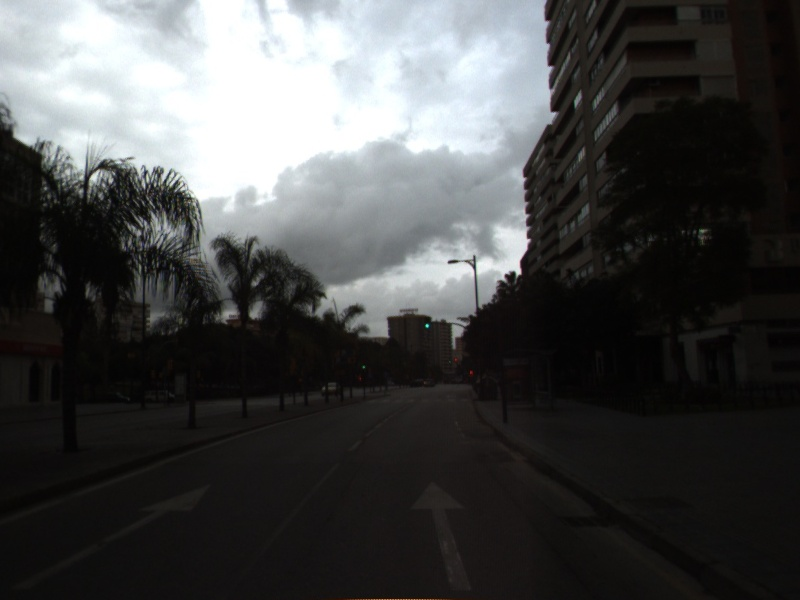STRAIGHT: (9, 480, 215, 592), (407, 479, 475, 593)
